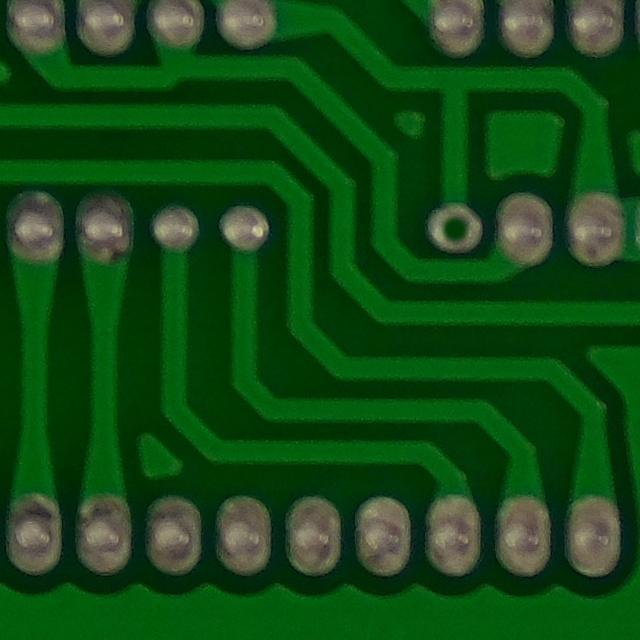missing_hole: (426, 196, 493, 251)
